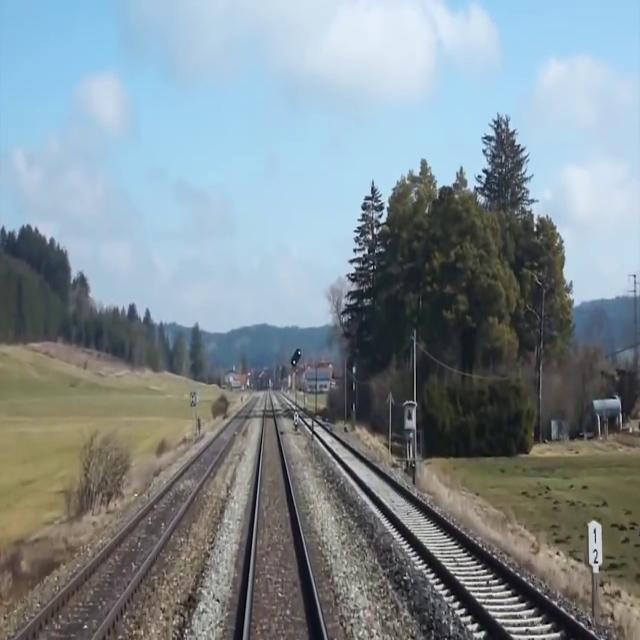rail-track: (313, 423, 592, 639), (19, 409, 246, 639), (248, 396, 323, 639)
